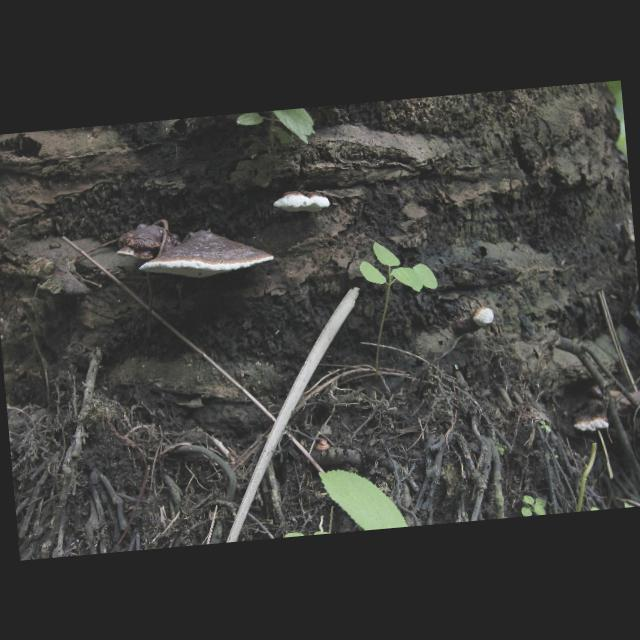ganoderma: (136, 223, 277, 285), (114, 220, 185, 264), (273, 187, 332, 217), (571, 408, 610, 435)
primordium: (472, 307, 496, 330)
